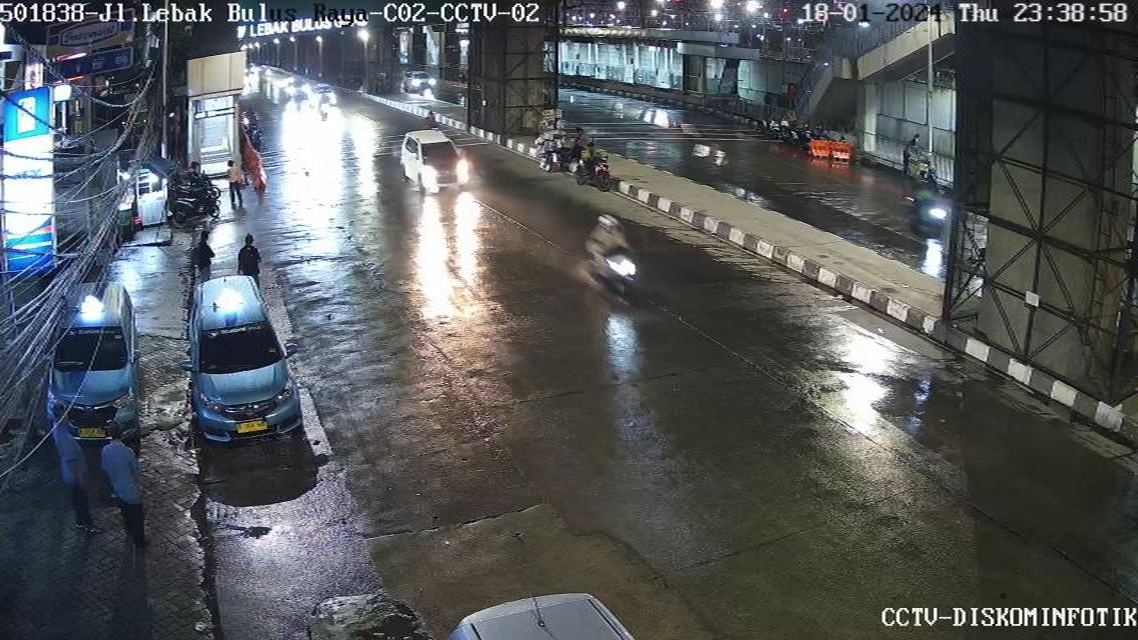Gerobak: (133, 167, 171, 226)
